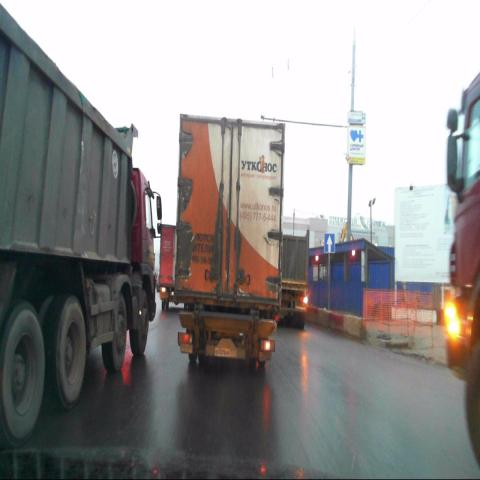5_5: (324, 233, 334, 252)
